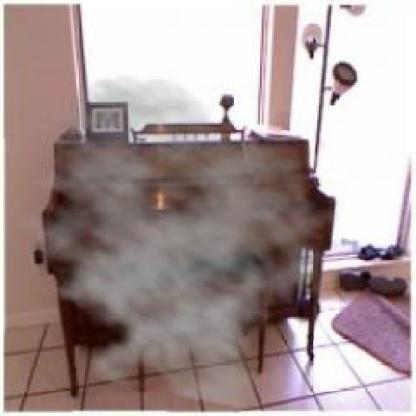Smoke: (0, 73, 341, 411)
